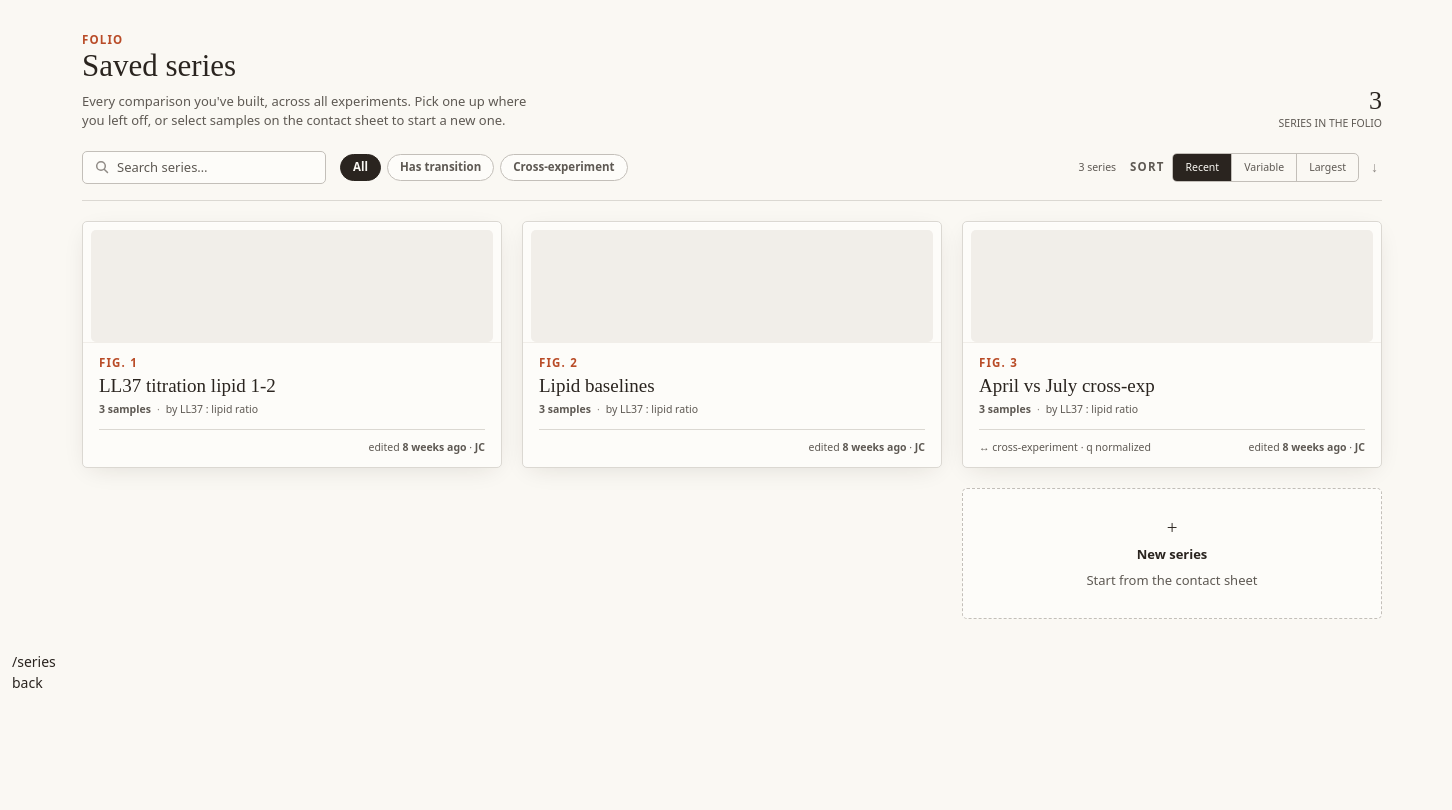
Test: SeriesFolioPage URL round-trip (FOL P2-3) › typing writes ?q= to the URL
The width and height of the screenshot is (1452, 810).
Step 1. Type "Lipid" into the field → (215, 167), box [117, 158, 313, 177]
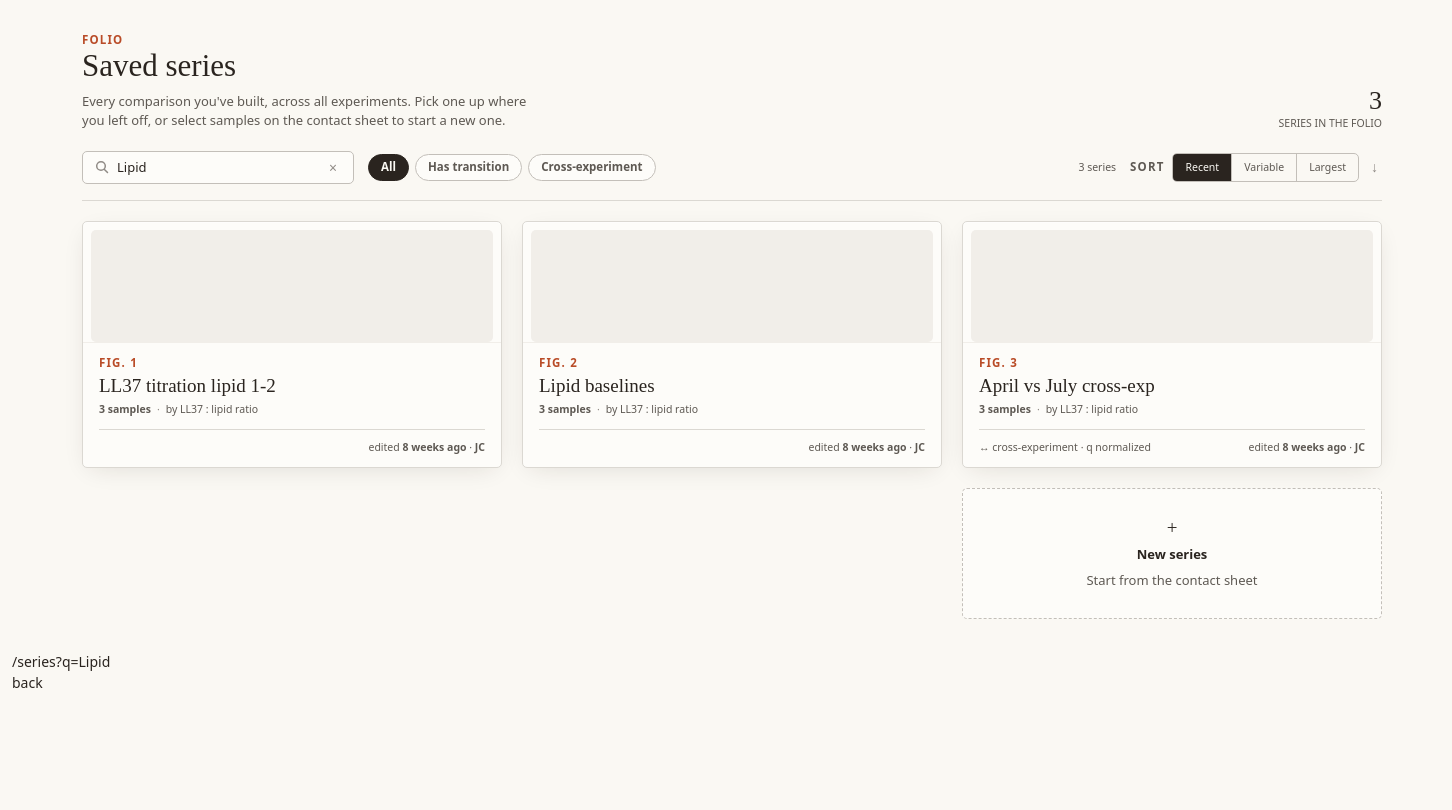
Expected: the text with test id "loc" reads "/series?q=Lipid", [12, 652, 110, 671]
